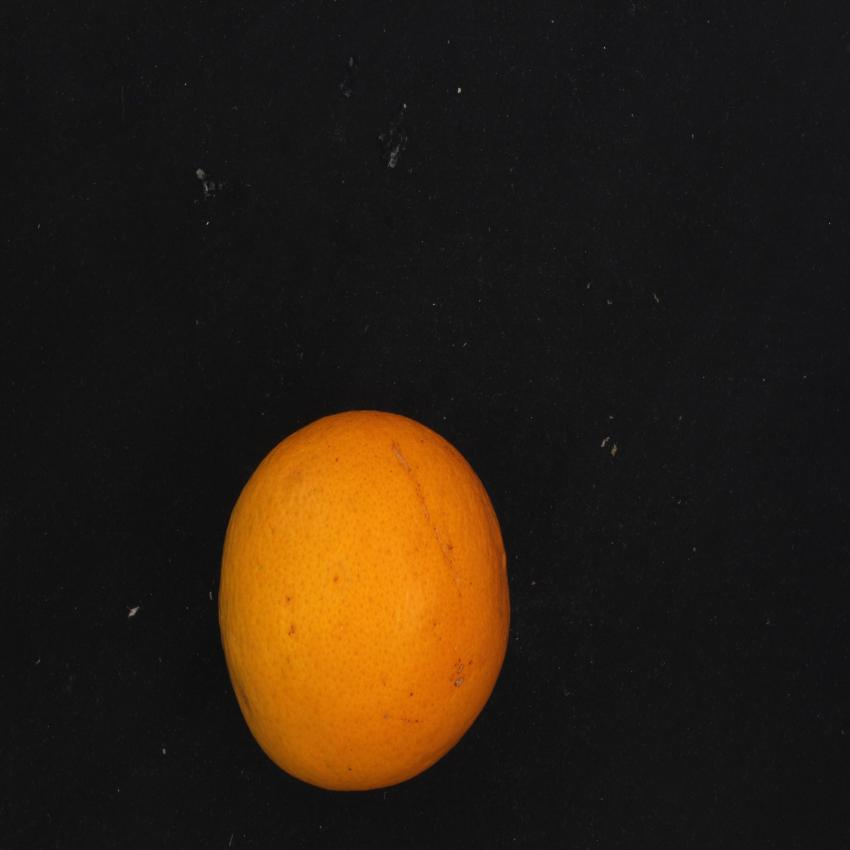Buen estado: (210, 400, 539, 806)
